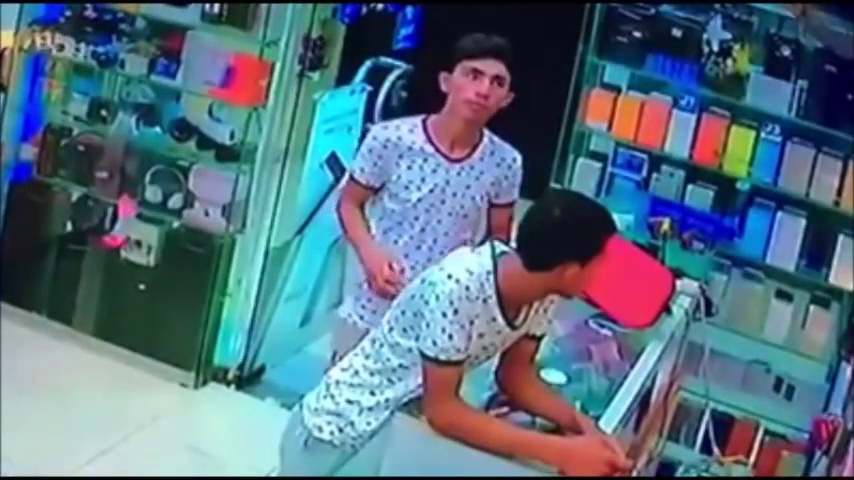face: (444, 54, 509, 127)
